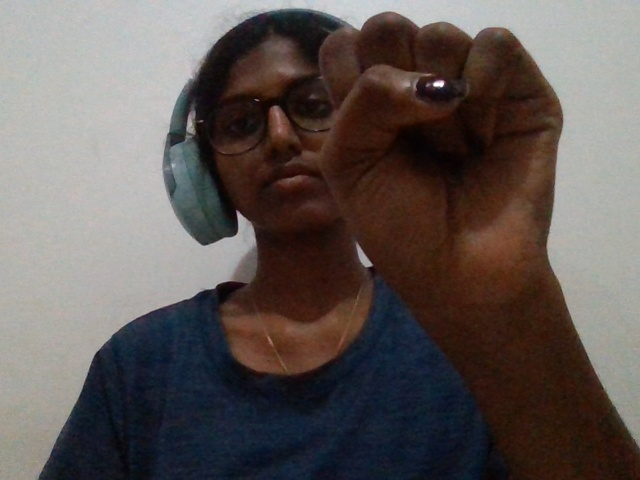Yes: (300, 3, 589, 428)
